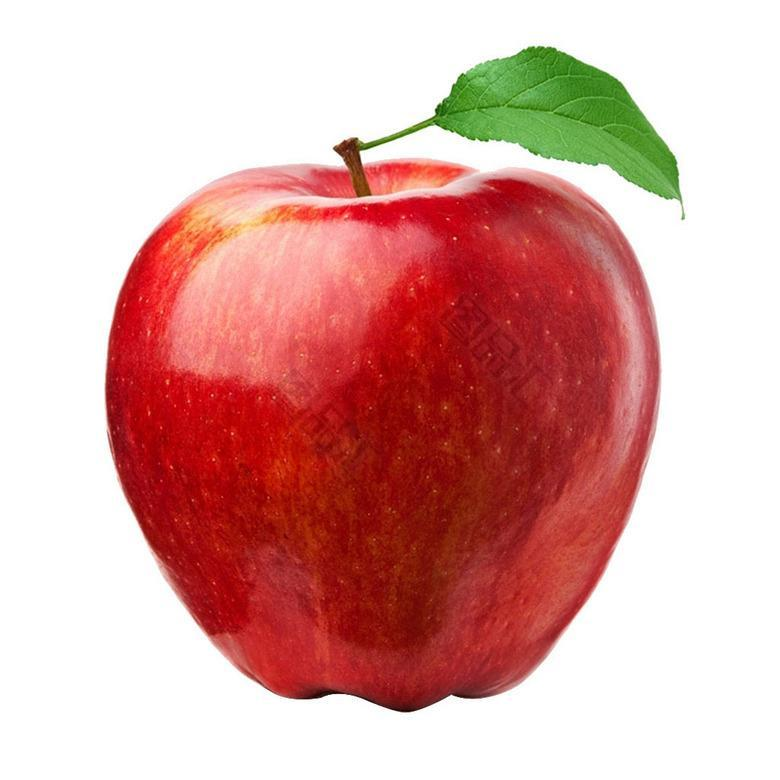apple: (99, 155, 662, 708)
